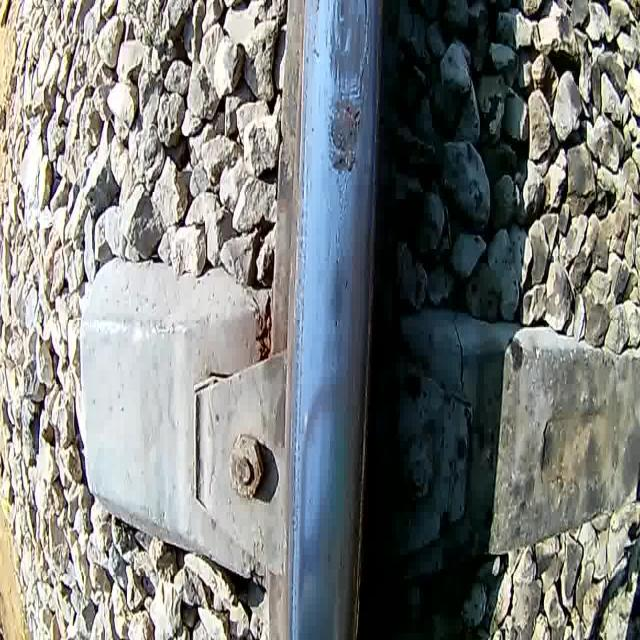Cracks: (357, 0, 373, 94)
Squats: (324, 0, 376, 91), (321, 94, 368, 181)
